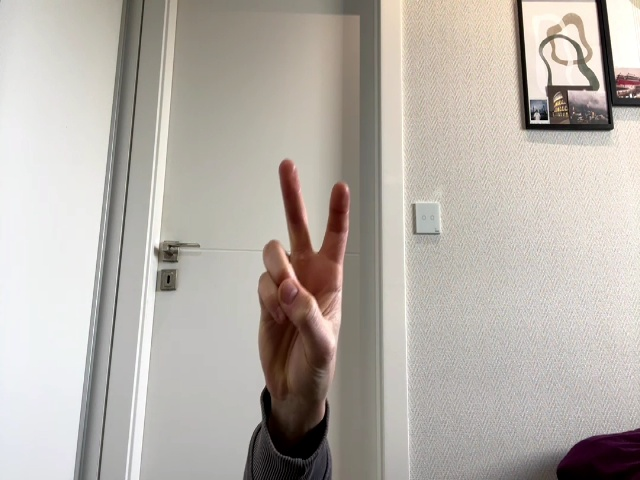H: (258, 159, 349, 412)
